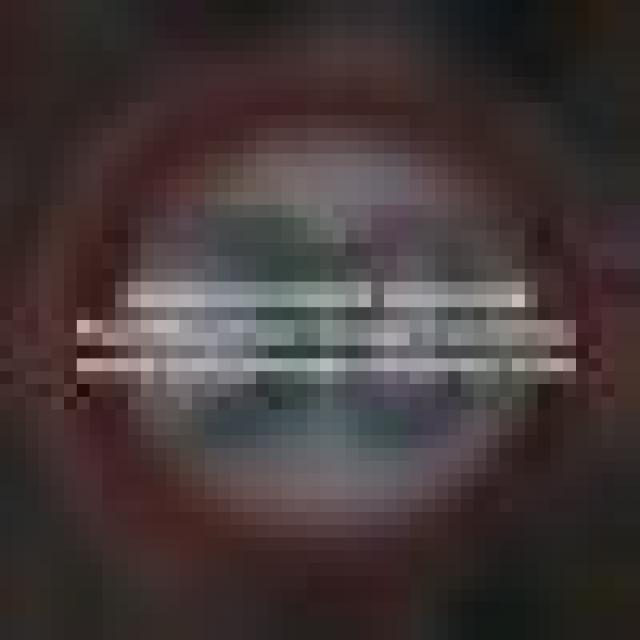SPEED_LIMIT_30: (13, 39, 589, 602)
